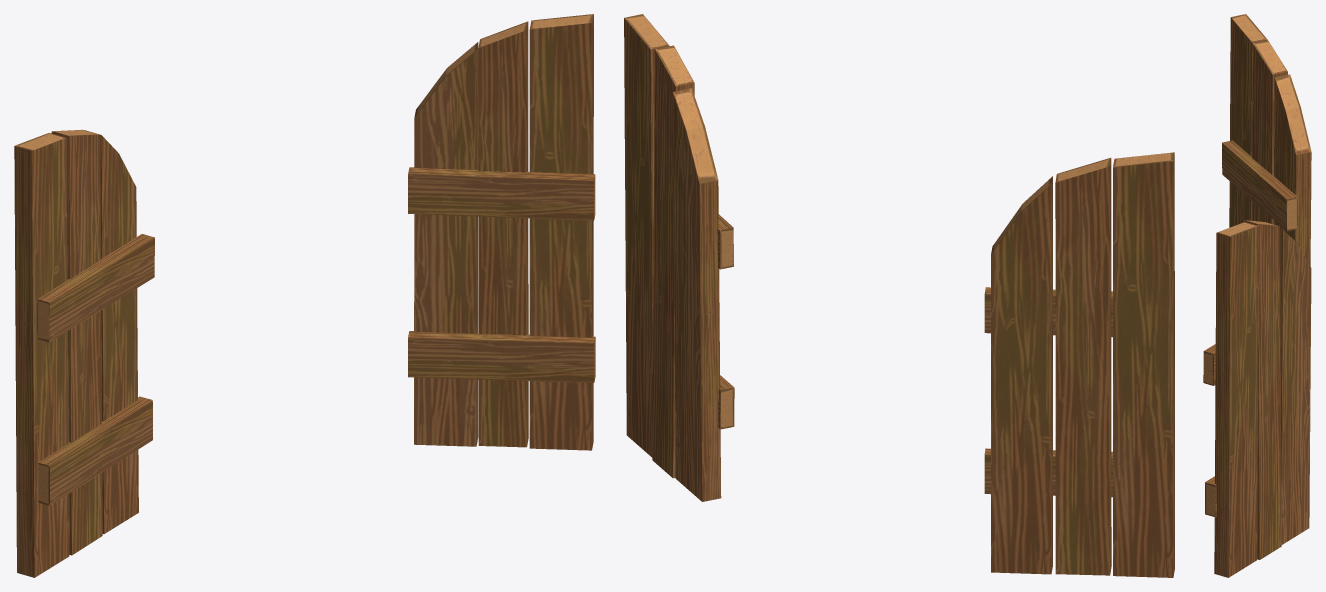
Rendered from WindowShutters_Wide_Round_Open.glb.
3 renders of one model, left to right at view 1: azimuth 30°, elevation 25°; view 2: azimuth 150°, elevation 25°; view 3: azimuth 270°, elevation 25°, orthographic. The views are drawn at different scales.
Parts seen in each view (by area): view 1: WindowShutters_Wide_Round_Open; view 2: WindowShutters_Wide_Round_Open; view 3: WindowShutters_Wide_Round_Open.
Boxes of the visible parts, box(x1,y1,x2,y2) form: WindowShutters_Wide_Round_Open: box(14, 14, 595, 577); WindowShutters_Wide_Round_Open: box(624, 14, 1174, 577); WindowShutters_Wide_Round_Open: box(1203, 14, 1311, 577).
Size of the model in its own units: 2.3 by 1.65 by 0.4724.
Materials: 1 (1 with a texture image).
